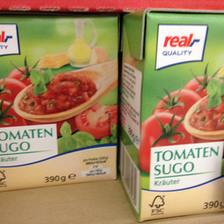tomato_sauce: (118, 10, 224, 223), (1, 13, 119, 192)
